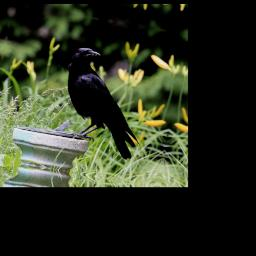Crow: (52, 45, 158, 163)
